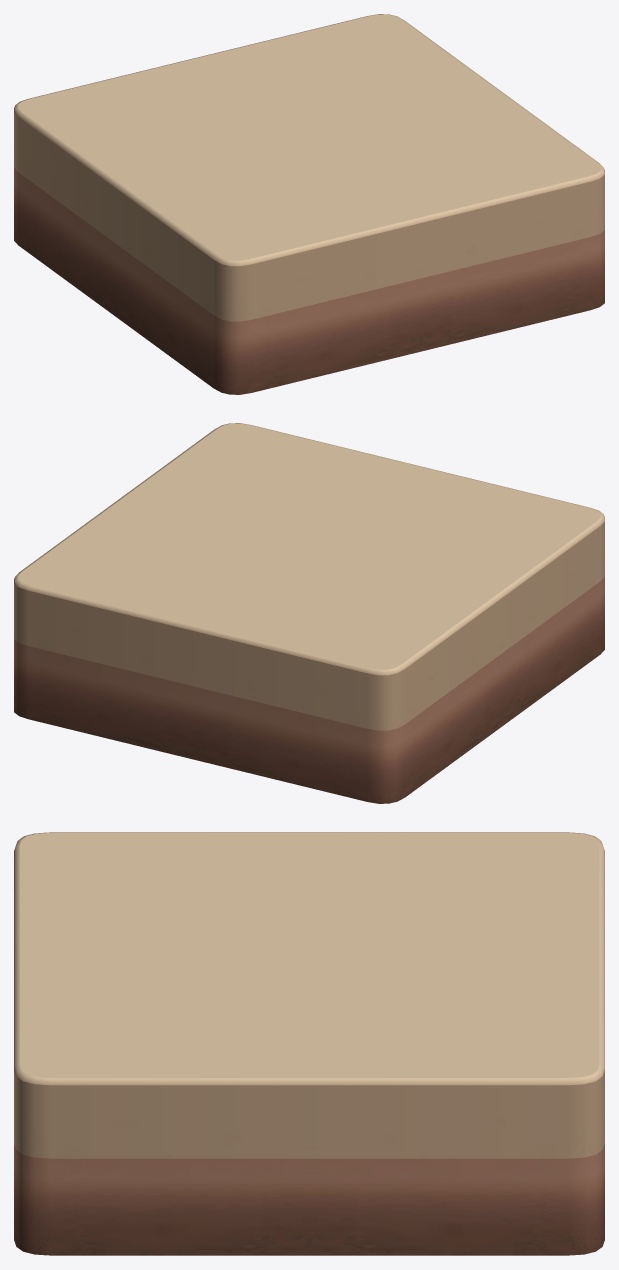
File: Props.fbx
3 renders of one model, top to bottom at view 1: azimuth 30°, elevation 25°; view 2: azimuth 150°, elevation 25°; view 3: azimuth 270°, elevation 25°, orthographic. The views are drawn at different scales.
Parts seen in each view (by area): view 1: Box02; view 2: Box02; view 3: Box02.
Part boxes in pixels (x1,y1,x2,y2): Box02: (14,14,604,394); Box02: (14,423,604,803); Box02: (14,832,604,1255).
Bounding box in the file's own units: 8 × 2.62 × 8.
1 material, 1 textured.
